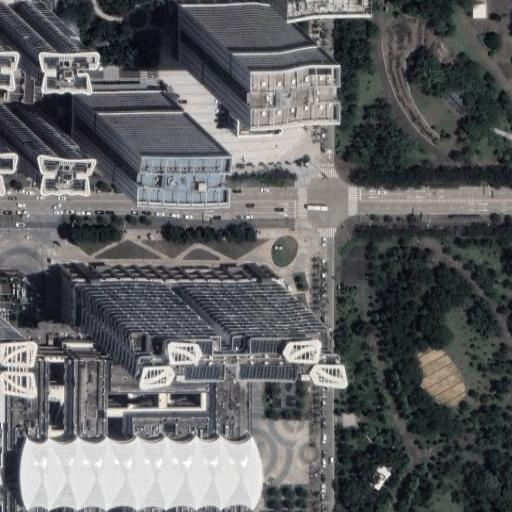building: (0, 349, 241, 512), (64, 267, 279, 324), (178, 5, 268, 63), (74, 97, 167, 146), (0, 105, 42, 146), (0, 2, 38, 45), (359, 454, 391, 488), (229, 112, 276, 134)
